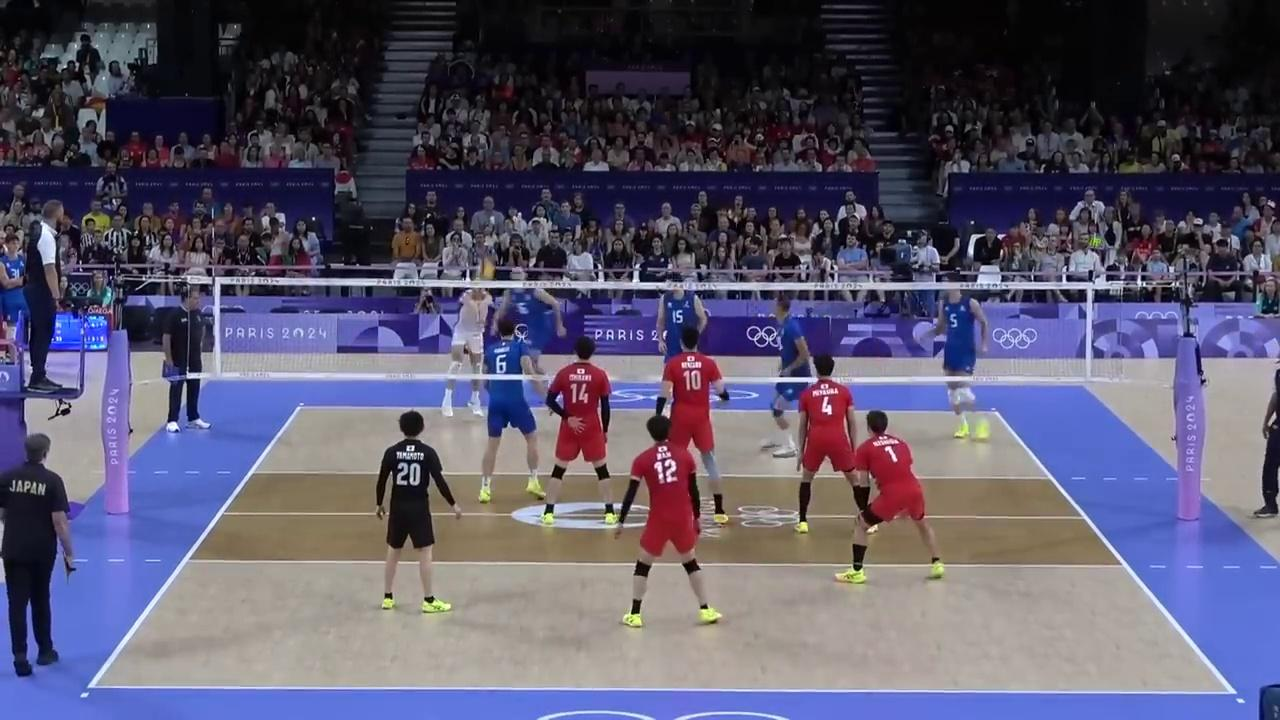ball: (477, 261, 494, 281)
